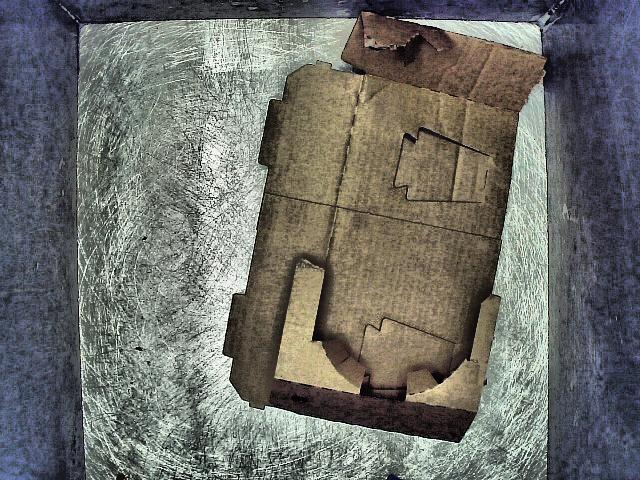Paper: (214, 11, 559, 453)
